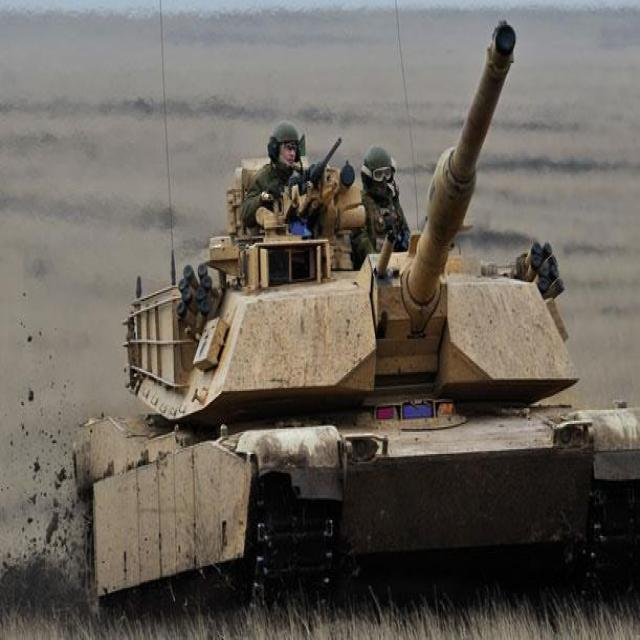Tanks: (75, 79, 624, 619)
